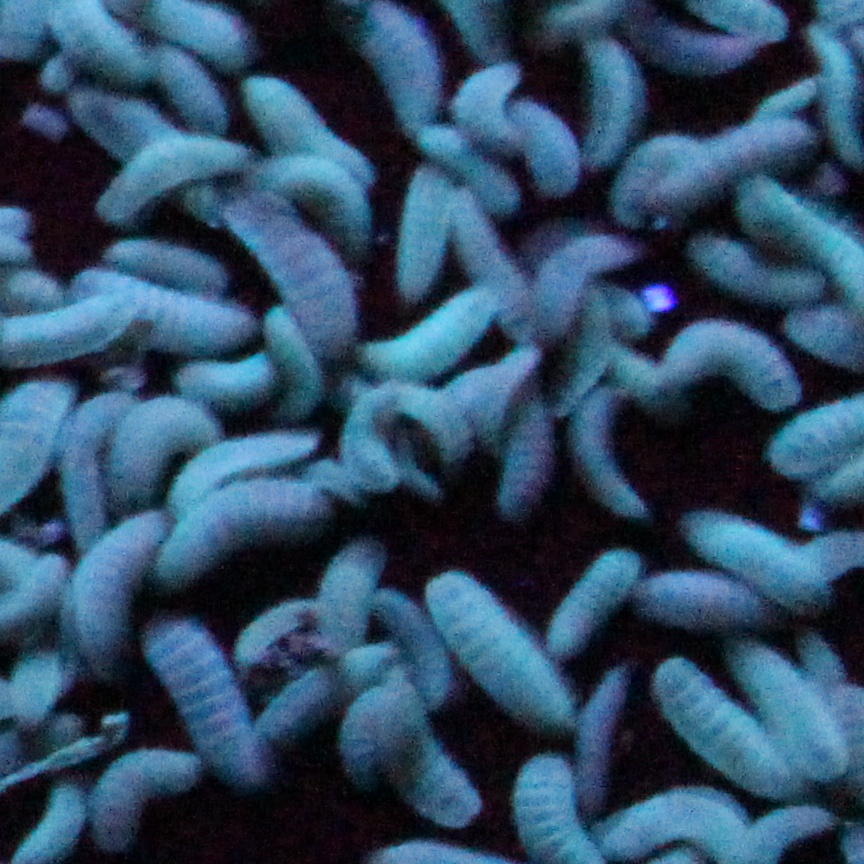larve: (438, 569, 547, 722), (164, 626, 257, 778), (168, 484, 318, 578), (664, 322, 794, 411), (672, 644, 746, 789), (349, 3, 435, 123), (77, 533, 144, 683), (394, 152, 457, 296), (109, 133, 242, 200), (558, 541, 634, 652), (575, 401, 644, 521), (613, 795, 749, 848), (679, 505, 795, 566), (644, 573, 759, 632), (668, 135, 748, 212), (381, 691, 432, 811), (588, 41, 637, 161), (102, 231, 215, 282), (111, 402, 167, 502), (584, 682, 628, 809), (249, 228, 332, 295), (172, 433, 312, 472), (68, 392, 105, 538), (356, 323, 484, 365), (321, 538, 372, 643), (4, 303, 122, 348), (251, 85, 344, 142), (764, 648, 809, 763), (455, 66, 521, 143), (47, 11, 128, 66), (284, 159, 362, 215), (332, 699, 379, 789), (184, 359, 272, 405), (415, 396, 472, 465), (802, 395, 855, 469), (511, 408, 548, 513), (97, 765, 148, 834), (768, 189, 817, 258), (705, 243, 764, 299), (542, 251, 584, 326), (347, 421, 394, 486), (654, 24, 709, 72), (164, 81, 225, 123), (828, 61, 856, 149), (22, 649, 55, 719), (568, 333, 607, 381)
